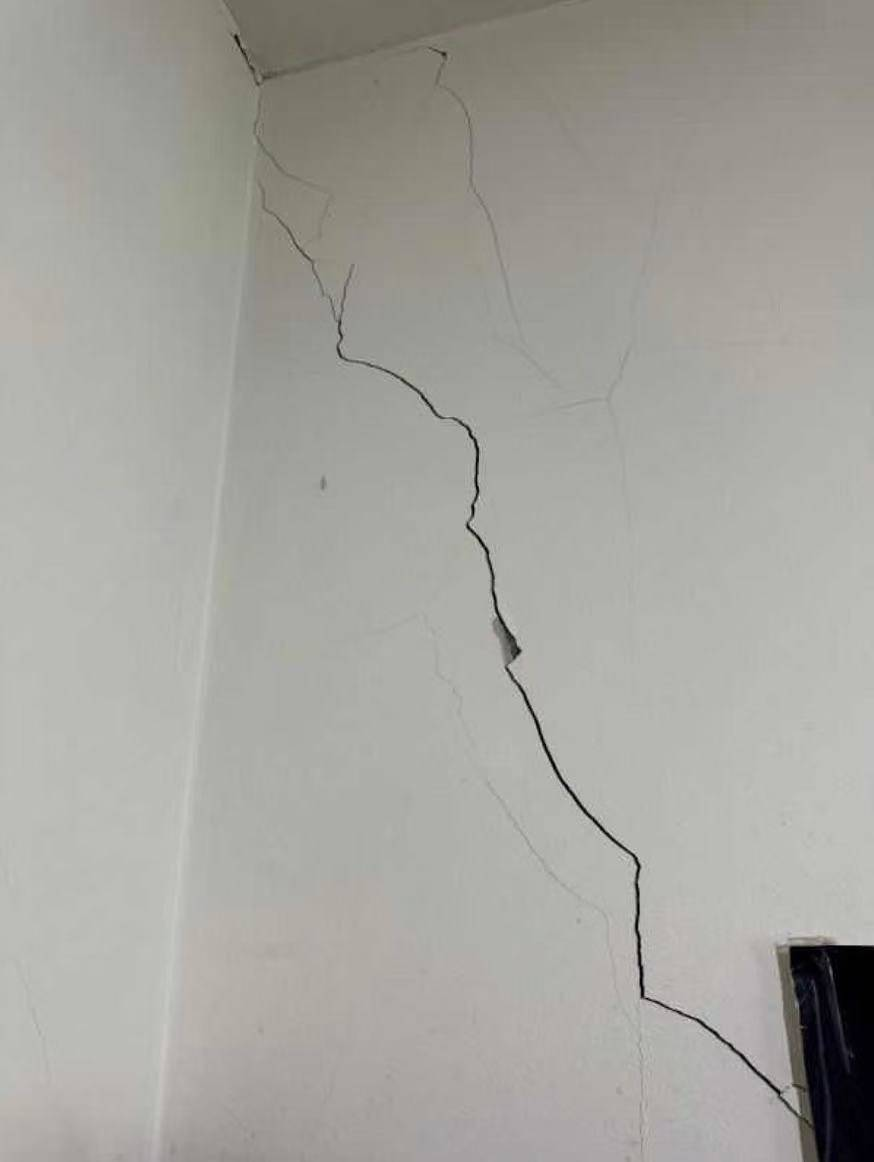Medium: (312, 265, 766, 1094)
